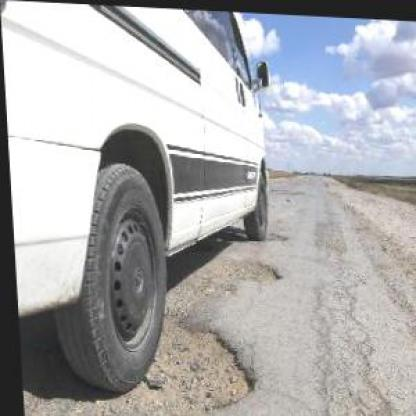pothole: (121, 306, 256, 414), (208, 252, 279, 283), (259, 226, 286, 240)
